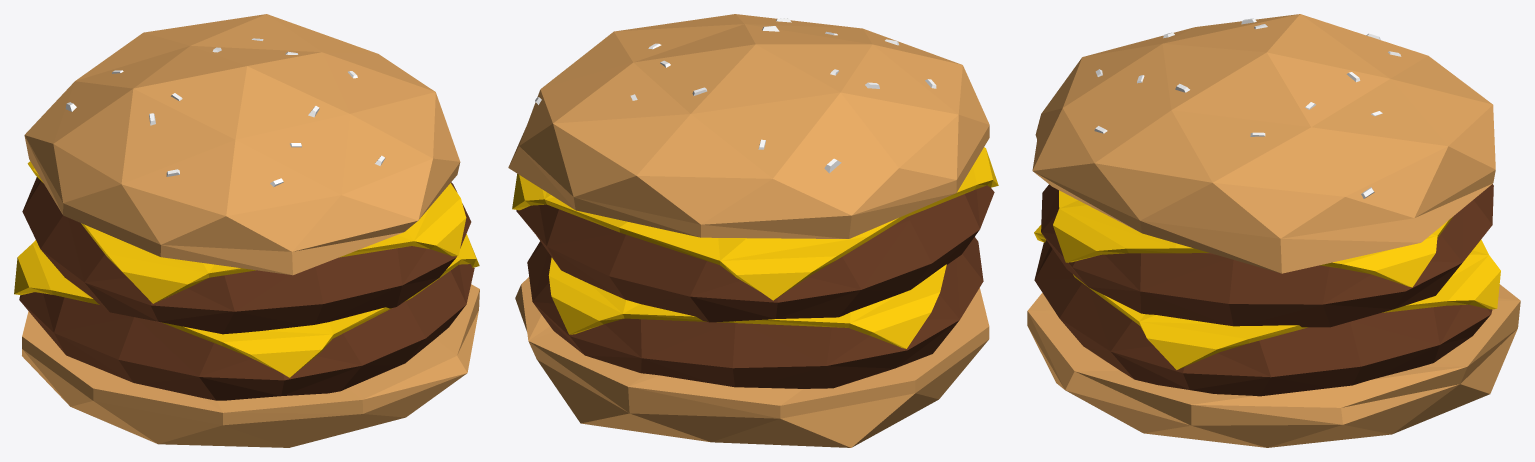
The model's file is DoubleCheeseburger.obj.
The picture shows the model from 3 angles, left to right: view 1: azimuth 30°, elevation 25°; view 2: azimuth 150°, elevation 25°; view 3: azimuth 270°, elevation 25°; orthographic projection. The views are drawn at different scales.
Parts seen in each view (by area): view 1: DoubleCheeseburger_LightYellow, DoubleCheeseburger_Brown, DoubleCheeseburger_Cheese, DoubleCheeseburger_White; view 2: DoubleCheeseburger_LightYellow, DoubleCheeseburger_Brown, DoubleCheeseburger_Cheese, DoubleCheeseburger_White; view 3: DoubleCheeseburger_LightYellow, DoubleCheeseburger_Brown, DoubleCheeseburger_Cheese, DoubleCheeseburger_White.
Part boxes in pixels (left/top/right/bottom): DoubleCheeseburger_LightYellow: left=22, top=14, right=479, bottom=447; DoubleCheeseburger_Brown: left=19, top=177, right=474, bottom=400; DoubleCheeseburger_Cheese: left=14, top=161, right=479, bottom=377; DoubleCheeseburger_White: left=65, top=38, right=385, bottom=186; DoubleCheeseburger_LightYellow: left=508, top=14, right=989, bottom=447; DoubleCheeseburger_Brown: left=516, top=185, right=994, bottom=388; DoubleCheeseburger_Cheese: left=512, top=147, right=998, bottom=348; DoubleCheeseburger_White: left=535, top=18, right=936, bottom=173; DoubleCheeseburger_LightYellow: left=1027, top=14, right=1520, bottom=447; DoubleCheeseburger_Brown: left=1034, top=184, right=1493, bottom=396; DoubleCheeseburger_Cheese: left=1034, top=190, right=1500, bottom=369; DoubleCheeseburger_White: left=1094, top=18, right=1401, bottom=198.
Size of the model in its own units: 1.49 by 1.2 by 1.54.
